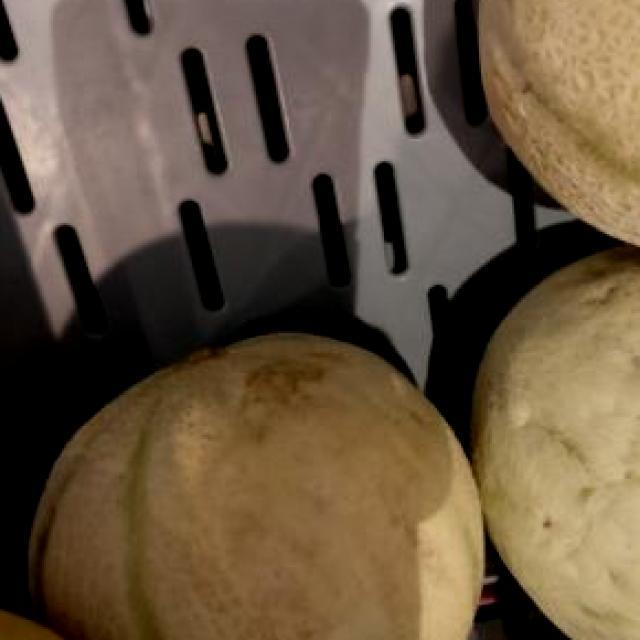Cantaloupe: (22, 331, 479, 640), (473, 251, 640, 640), (474, 0, 640, 258)
